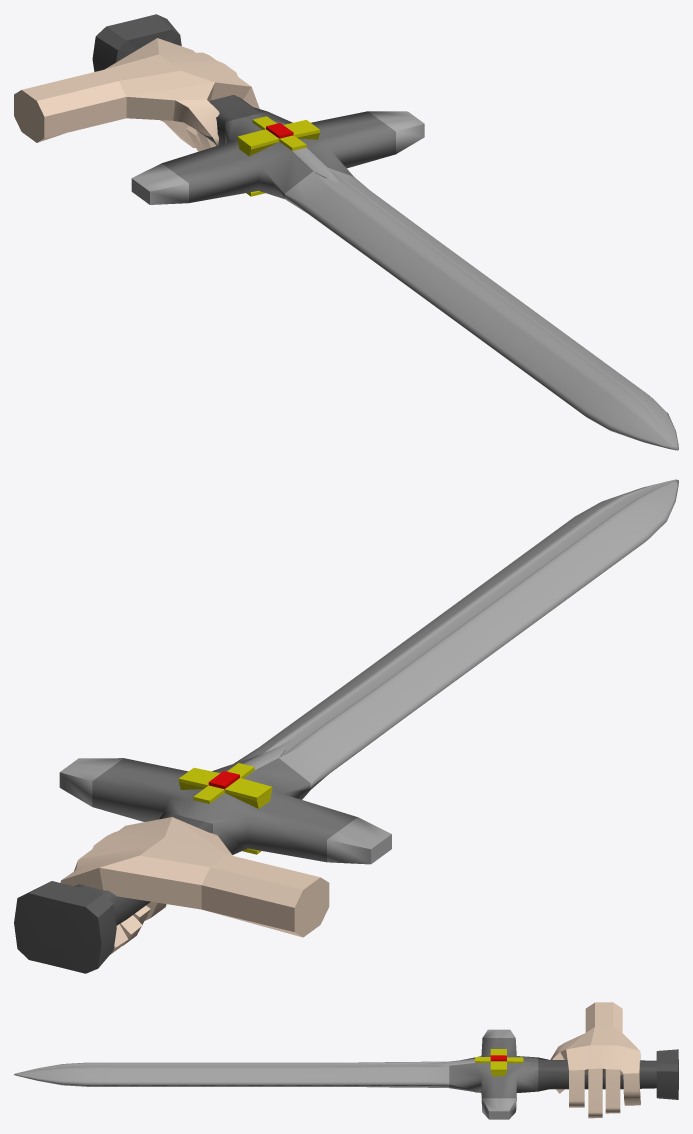
The model's file is hand_swordleft.fbx.
The picture shows the model from 3 angles, top to bottom: view 1: azimuth 30°, elevation 25°; view 2: azimuth 150°, elevation 25°; view 3: azimuth 270°, elevation 25°; orthographic projection. The views are drawn at different scales.
Parts seen in each view (by area): view 1: polySurface1; view 2: polySurface1; view 3: polySurface1.
Boxes of the visible parts, left/top/right/bottom form: polySurface1: left=14, top=14, right=678, bottom=450; polySurface1: left=14, top=479, right=678, bottom=973; polySurface1: left=14, top=1002, right=678, bottom=1119.
Size of the model in its own units: 3 by 0.9567 by 9.44.
